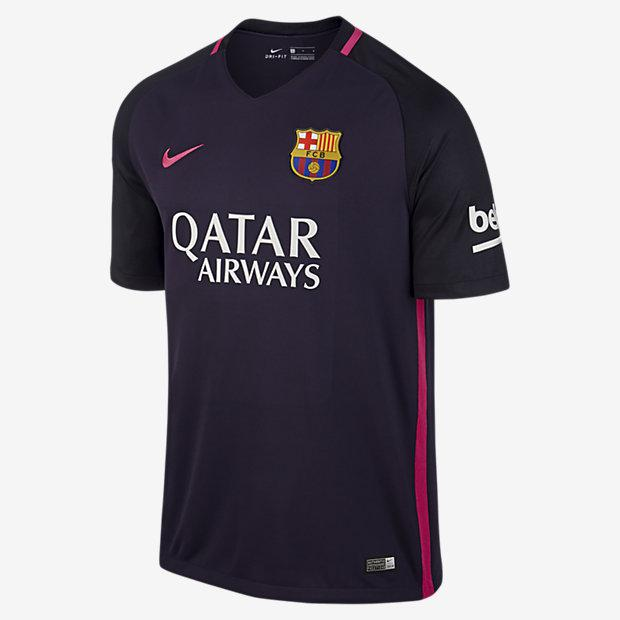teeshirt: (88, 13, 536, 615)
